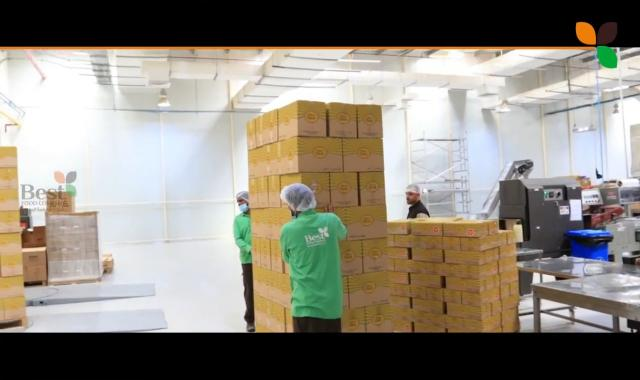hairnet: (282, 183, 316, 211), (234, 187, 250, 201), (404, 182, 420, 196)
